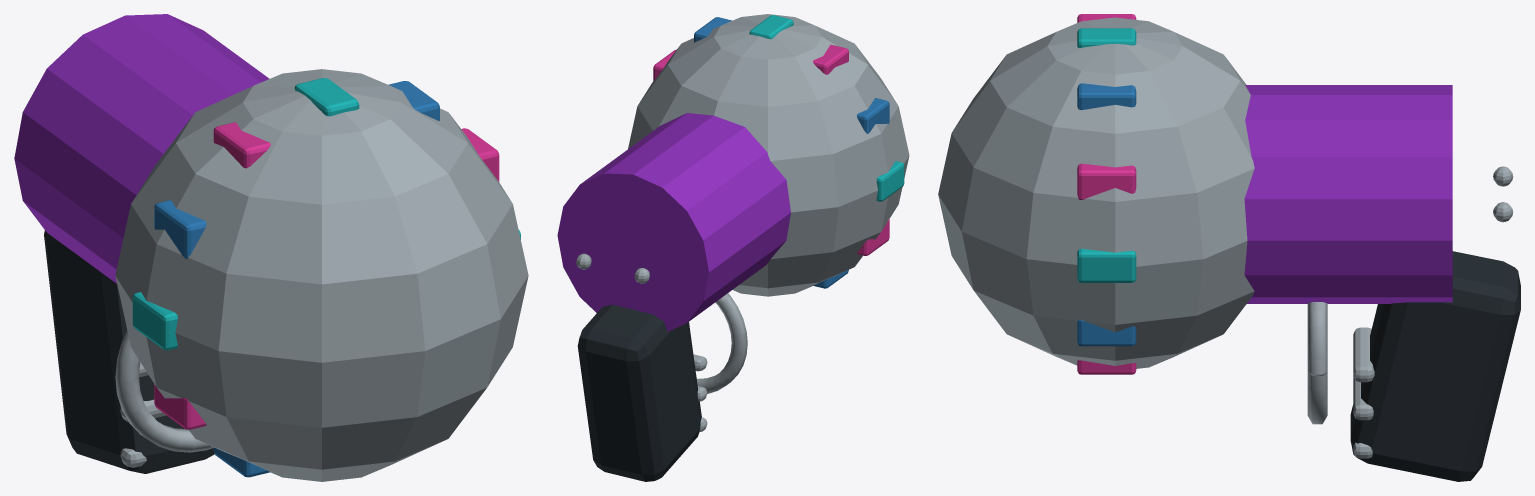
The model's file is disco-ray.glb.
3 views of the same model, side by side, from view 1: azimuth 30°, elevation 25°; view 2: azimuth 150°, elevation 25°; view 3: azimuth 270°, elevation 25° (orthographic). The views are drawn at different scales.
Parts seen in each view (by area): view 1: barrel; view 2: barrel; view 3: barrel.
Part boxes in pixels (x1,y1,x2,y2): barrel: [14, 14, 528, 481]; barrel: [557, 14, 909, 481]; barrel: [938, 14, 1520, 481].
Size of the model in its own units: 0.42 by 0.5689 by 0.691.
